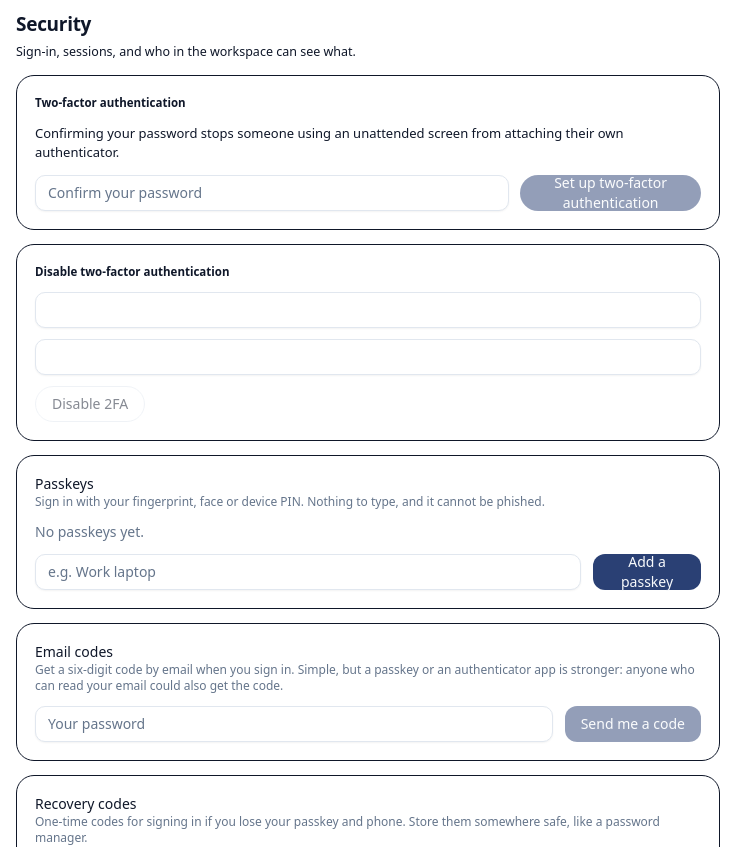
it: SettingsSecurityPage › disables 2FA with just a code when the user leaves the password field blank
Type "123456" into the field named "Confirmation code" at (368, 310), box [35, 292, 701, 328]
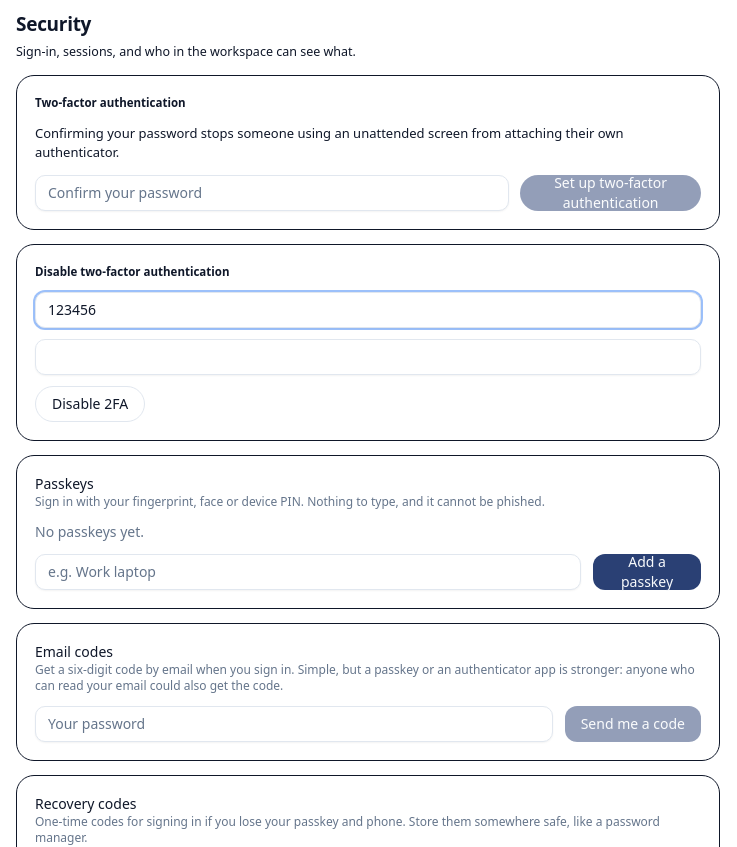
Click the button "Disable 2FA" at (90, 404), box [35, 386, 145, 422]
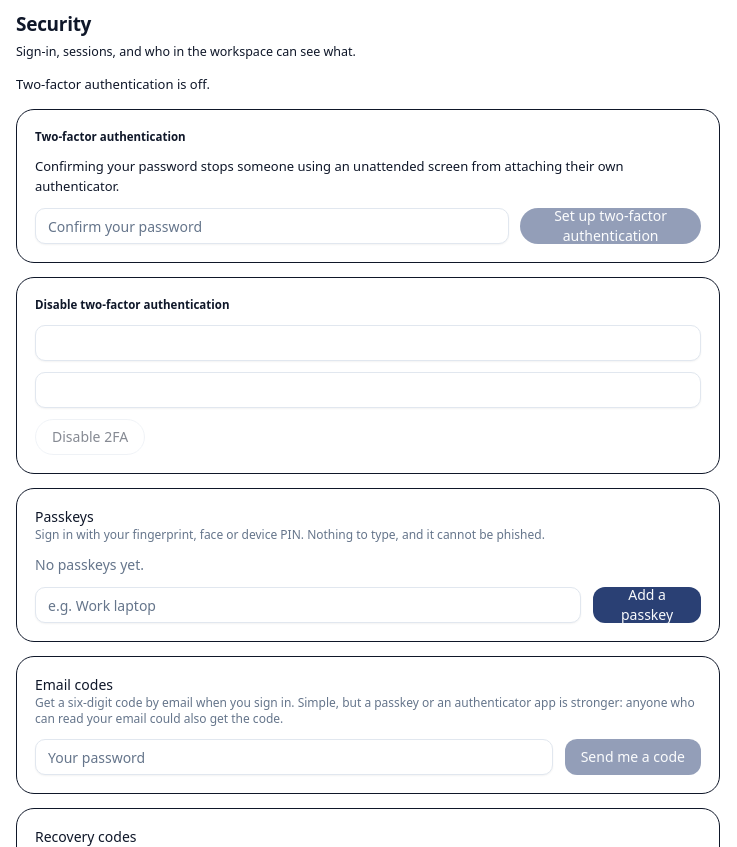
Check: the text "Two-factor authentication is off." is shown, box [16, 75, 210, 93]
